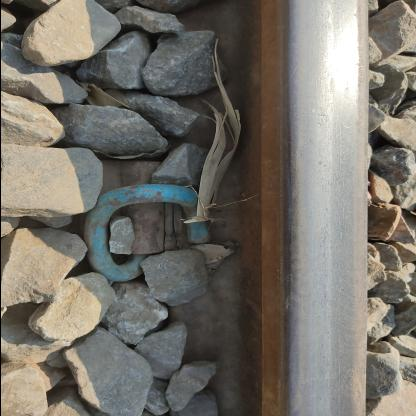Non Defective 1: (76, 152, 232, 290)
